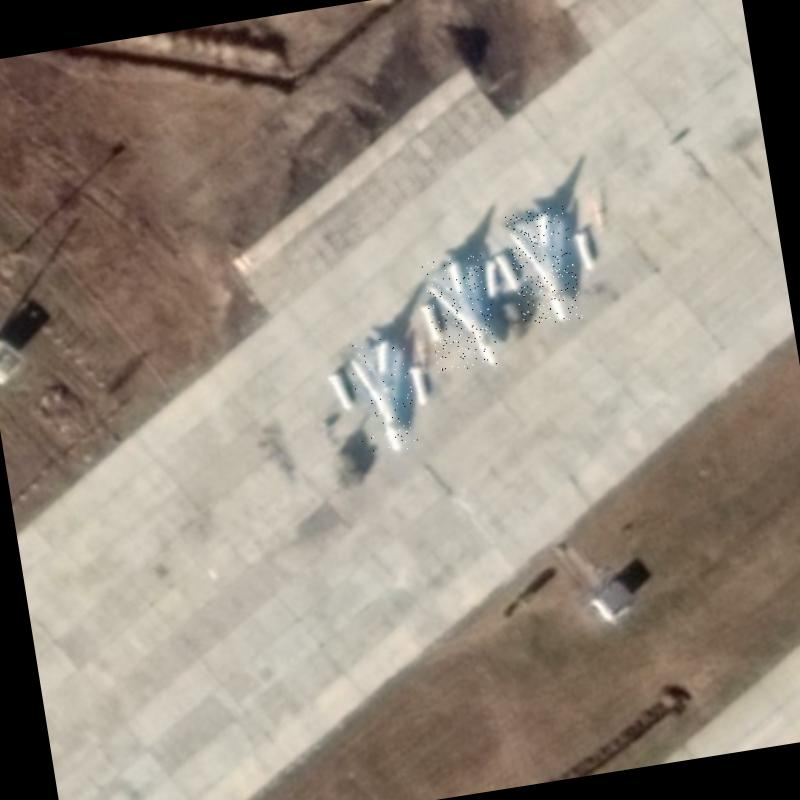A20: (420, 253, 501, 374), (504, 205, 582, 328), (346, 334, 422, 458)
